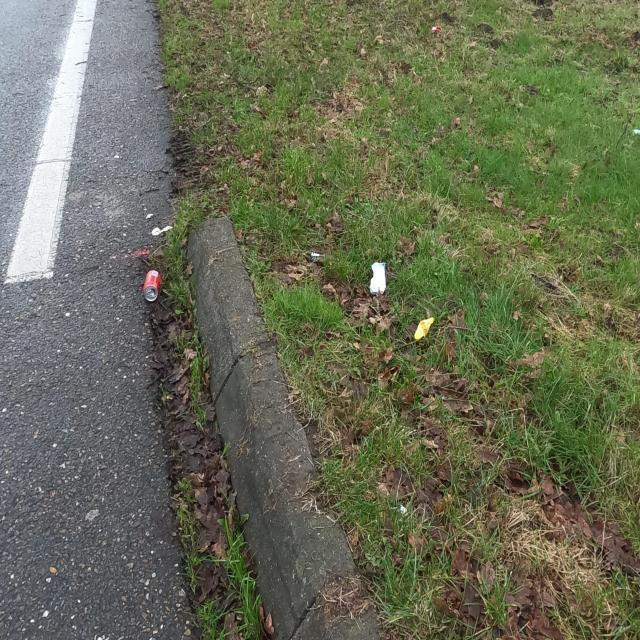Can-Metal: (142, 269, 162, 303)
Plastic: (414, 316, 436, 342), (369, 262, 386, 295)
